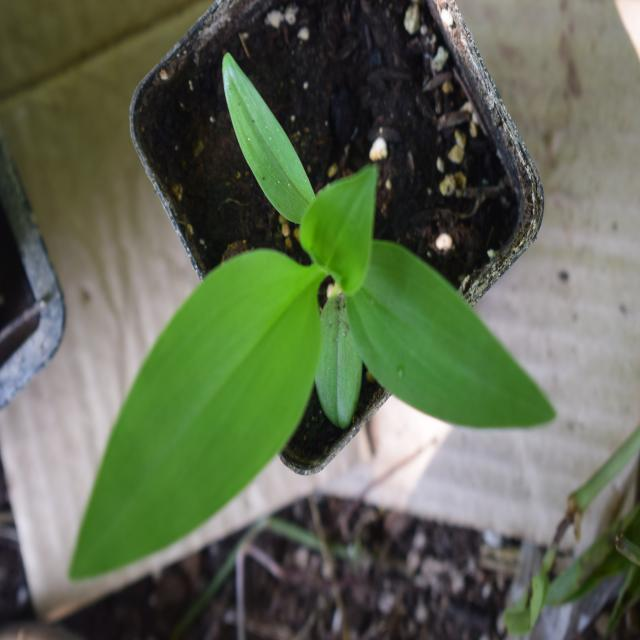Common Dayflower: (66, 98, 536, 534)
